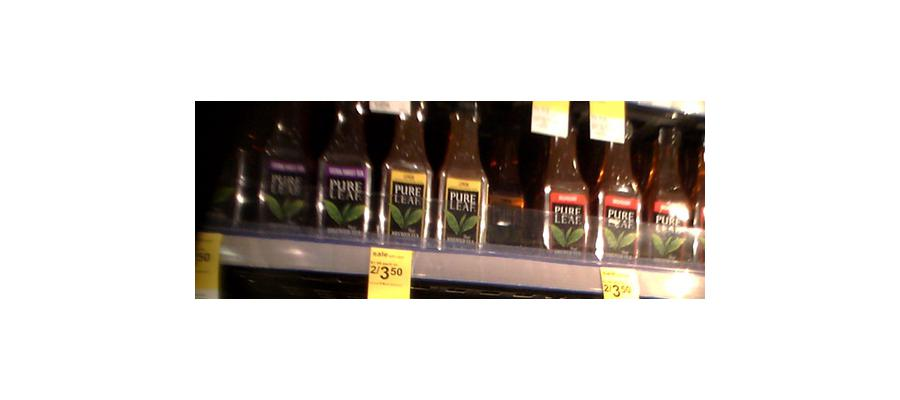bottle: (433, 98, 487, 248), (642, 111, 693, 265), (539, 105, 591, 255), (378, 96, 428, 246), (593, 110, 641, 262), (322, 98, 372, 235), (485, 109, 533, 245), (264, 106, 311, 229)
